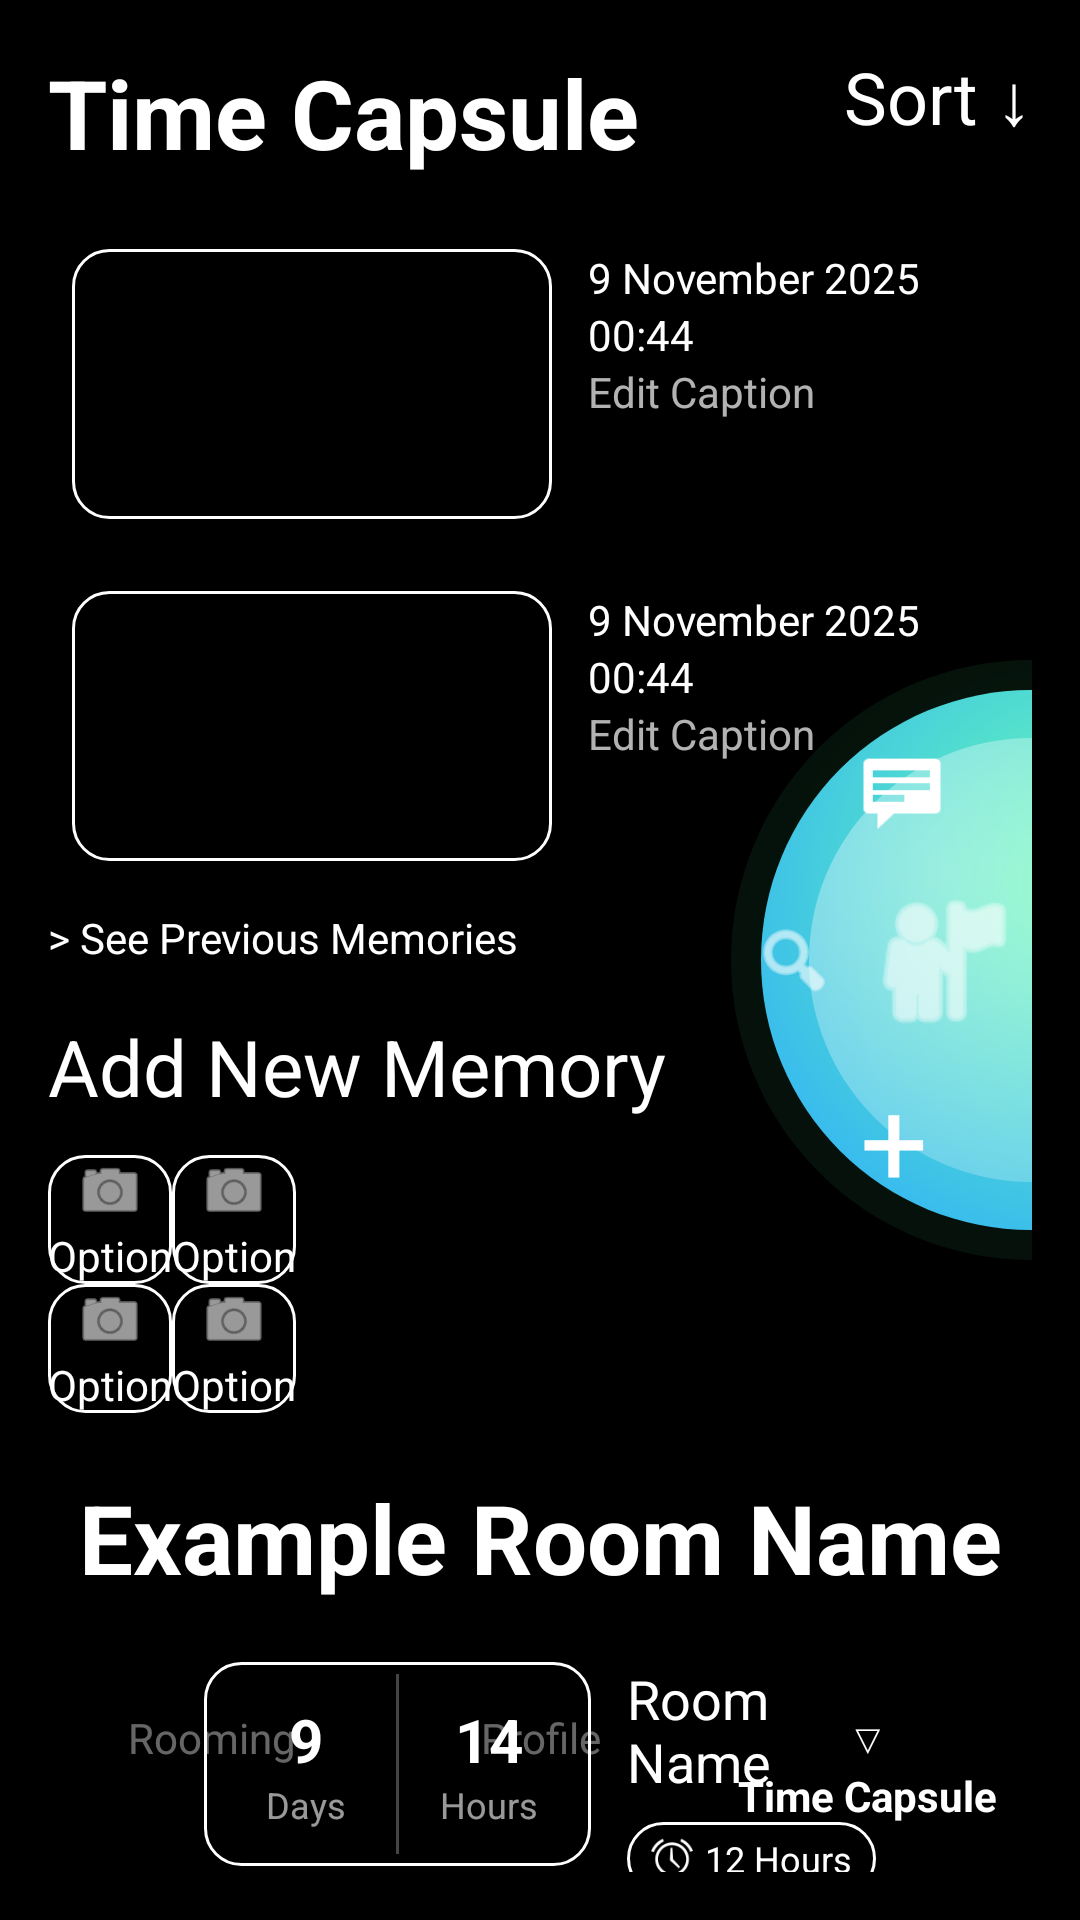

Icon click points for this 1080 x 1920 phone screenshot, format (x=x, y=y):
camera: (x=110, y=1190), (x=234, y=1190), (x=110, y=1319), (x=234, y=1319)
chat: (x=902, y=789)
lock idle alarm: (x=672, y=1855)
myplaces: (x=945, y=961)
search: (x=794, y=960)
